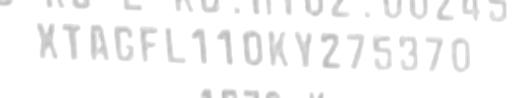letter: (236, 25, 266, 69), (264, 25, 294, 69), (316, 27, 346, 71), (32, 17, 60, 63), (110, 19, 138, 65), (56, 19, 86, 61), (84, 21, 114, 63), (292, 23, 318, 71), (368, 29, 396, 73), (186, 23, 214, 65), (160, 23, 188, 65), (446, 31, 474, 73), (212, 21, 238, 65), (342, 27, 368, 69), (396, 29, 422, 71), (422, 33, 448, 73), (136, 21, 158, 63)
